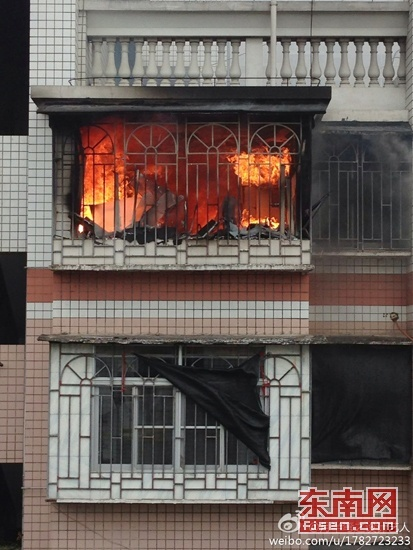fire: (80, 126, 128, 225), (226, 144, 291, 185), (239, 209, 281, 231)
